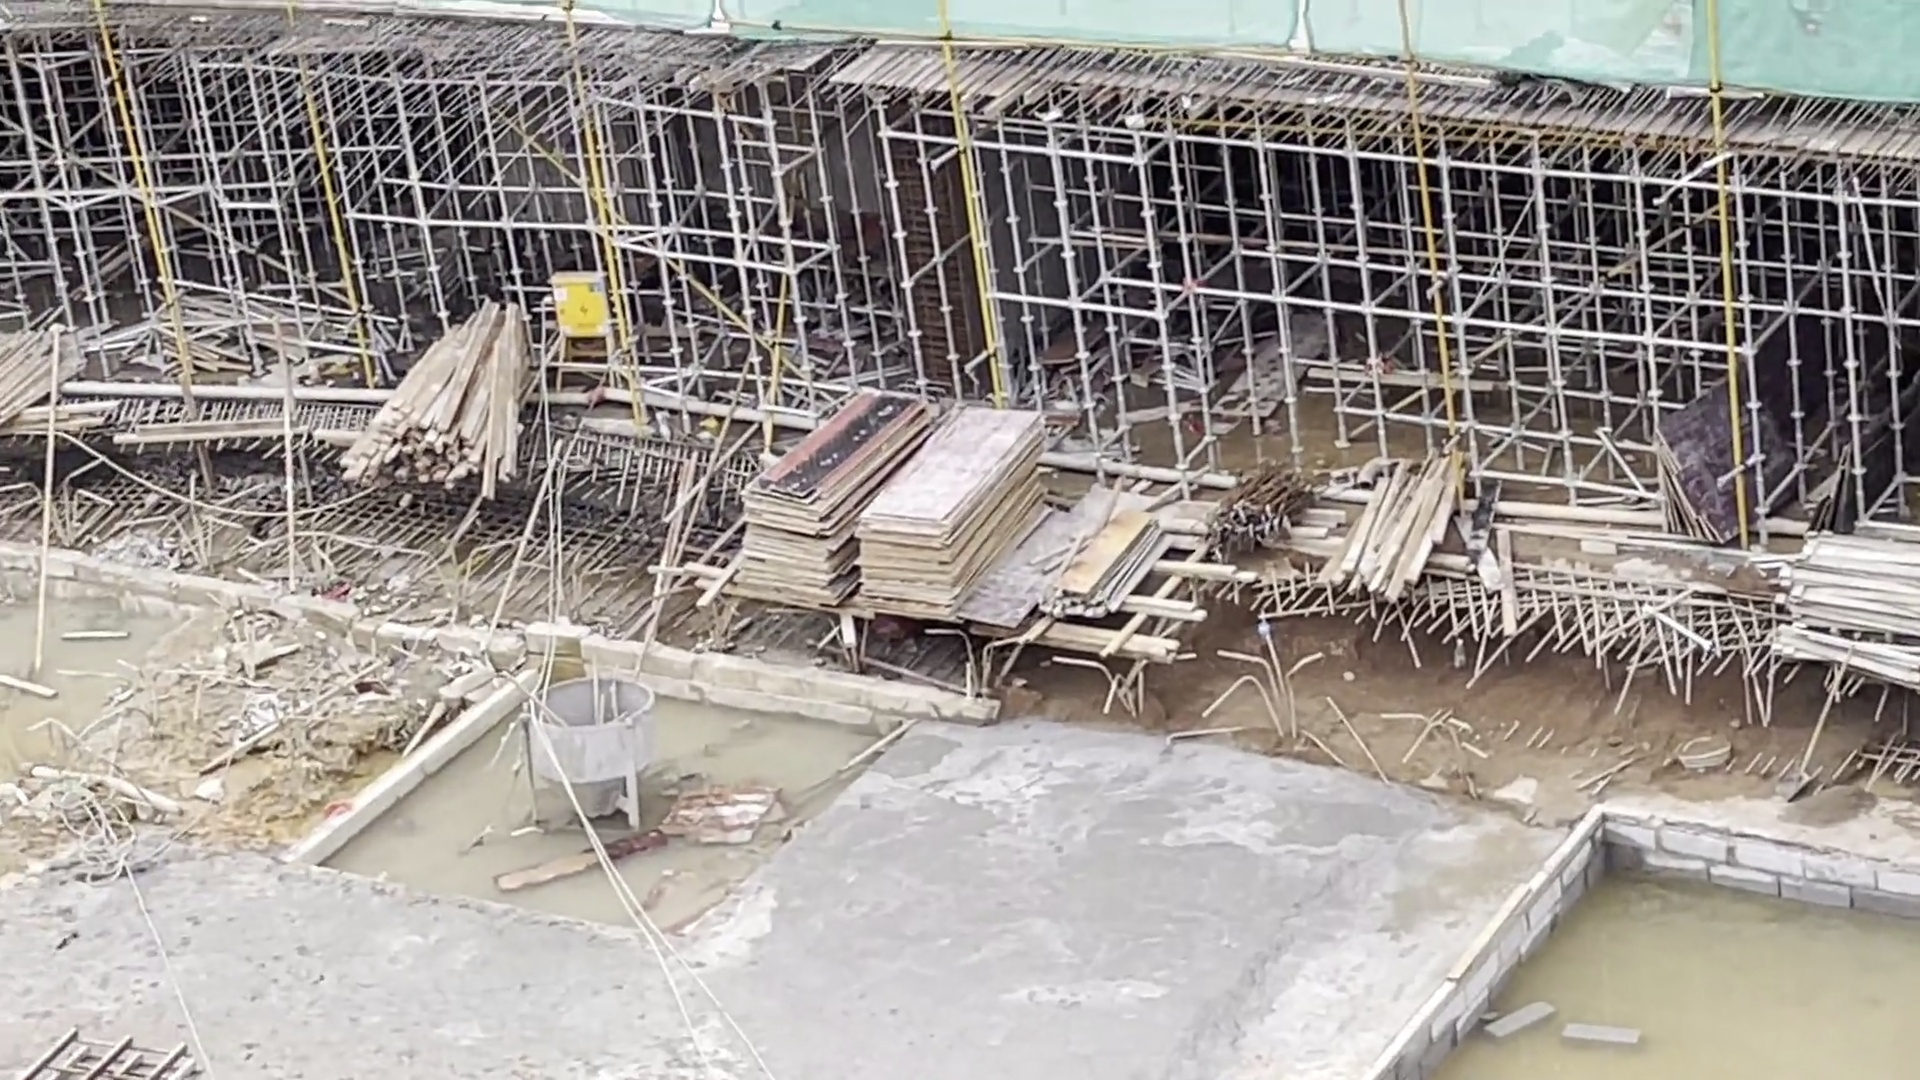board: (735, 388, 944, 605), (853, 405, 1055, 612)
ebox: (545, 265, 622, 382)
rebar: (1204, 458, 1309, 564)
wood: (338, 299, 531, 498), (1764, 525, 1920, 694), (1317, 446, 1469, 601)
